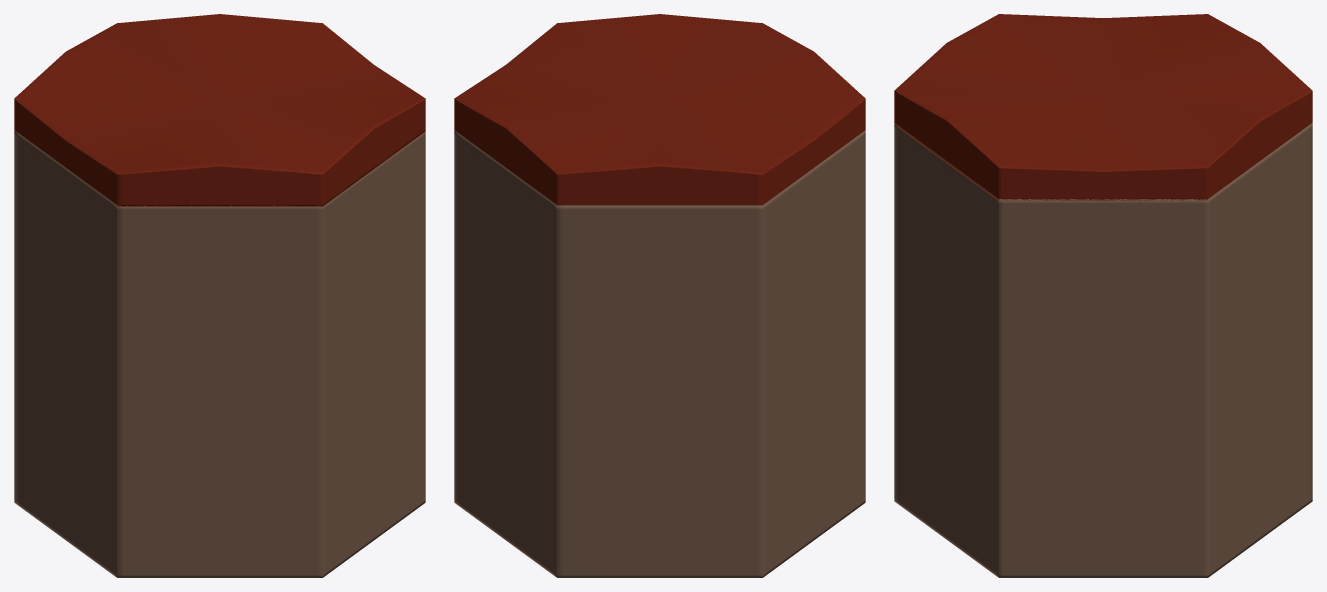
The model's file is lava_hex.fbx.
3 renders of one model, left to right at view 1: azimuth 30°, elevation 25°; view 2: azimuth 150°, elevation 25°; view 3: azimuth 270°, elevation 25°, orthographic.
Visible parts, largest first — view 1: Cylinder, Cylinder.001; view 2: Cylinder, Cylinder.001; view 3: Cylinder, Cylinder.001.
Part boxes in pixels (x1,y1,x2,y2): Cylinder: (14, 130, 425, 577); Cylinder.001: (14, 14, 425, 206); Cylinder: (454, 130, 865, 577); Cylinder.001: (454, 14, 865, 205); Cylinder: (894, 123, 1312, 577); Cylinder.001: (894, 14, 1312, 200).
Size of the model in its own units: 173 by 222 by 200.
